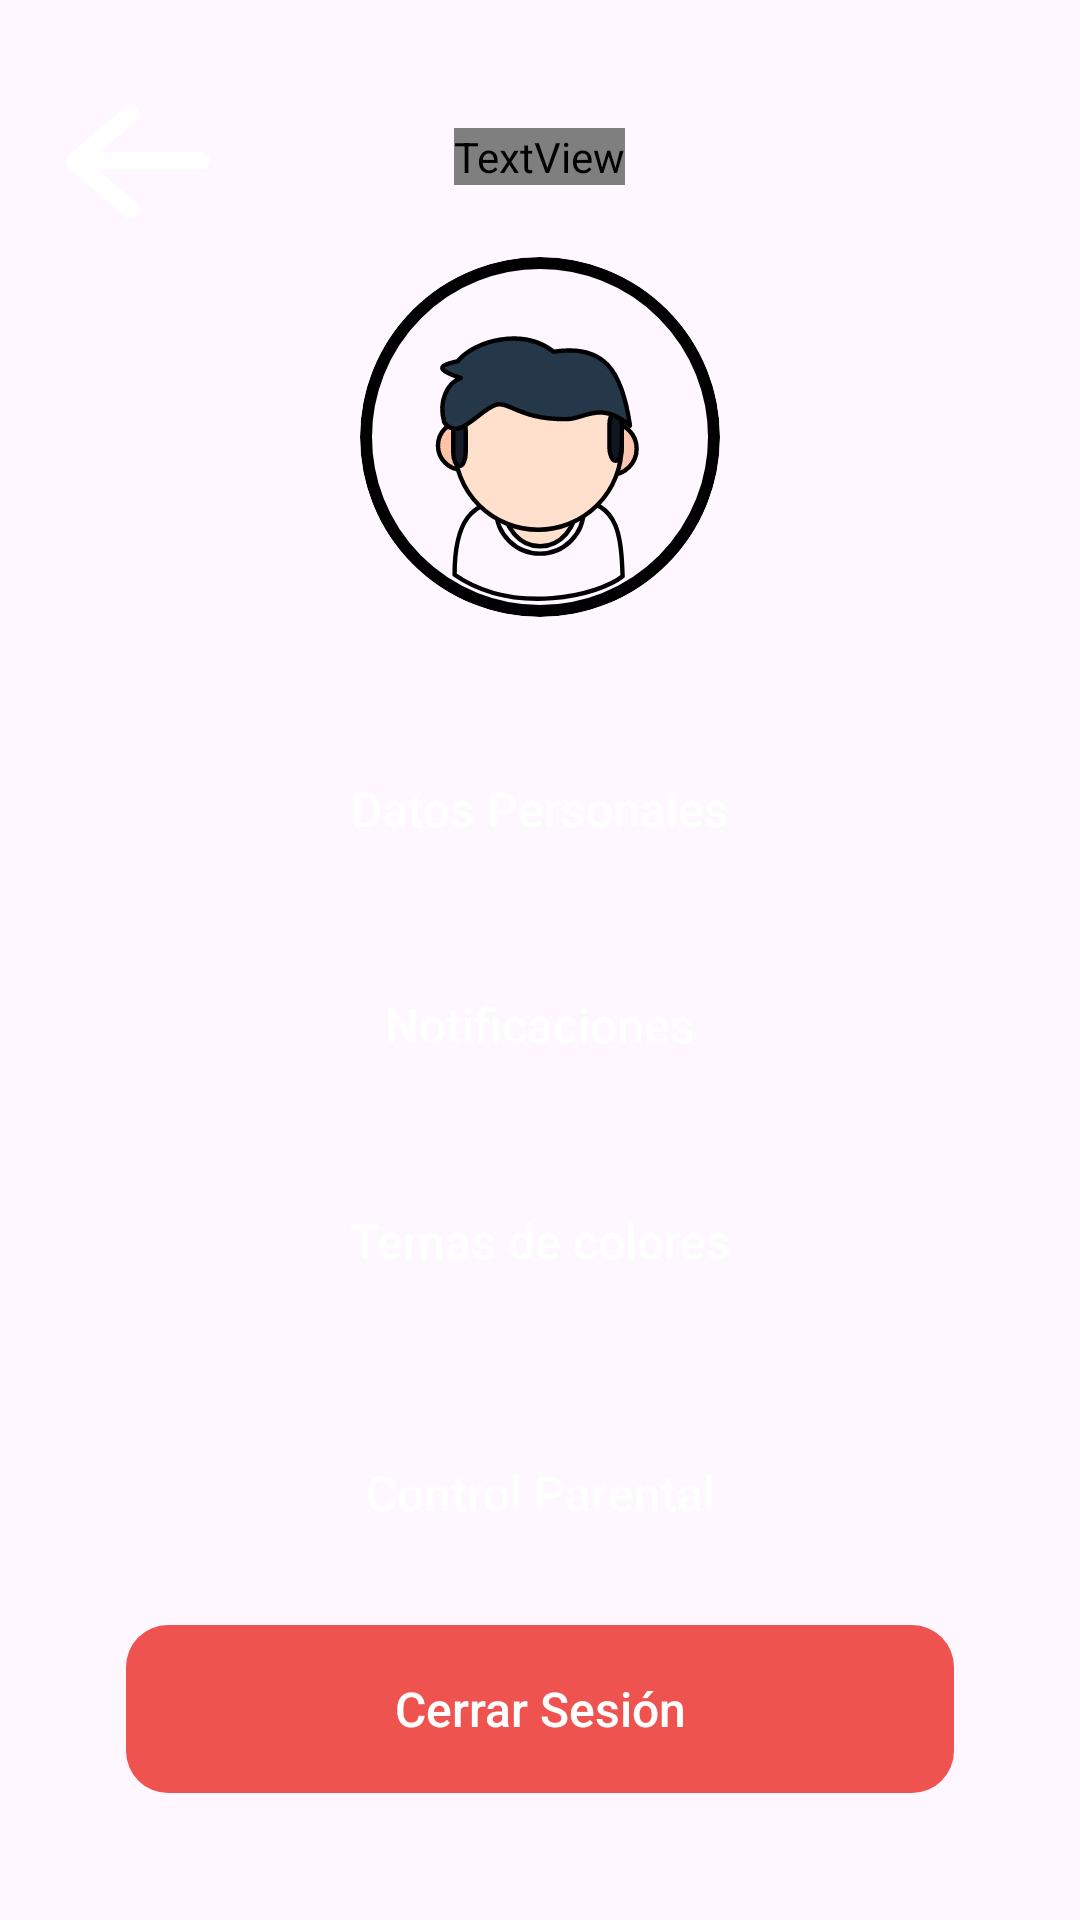

Screen size 1080x1920. Icon name, then its box in pixels as (x1, y1, x2, y2):
user: (360, 257, 720, 617)
